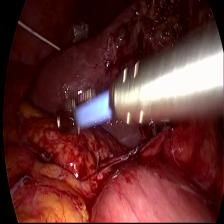Bipolar: (50, 58, 133, 151)
Specimen Bag: (64, 16, 100, 49)
